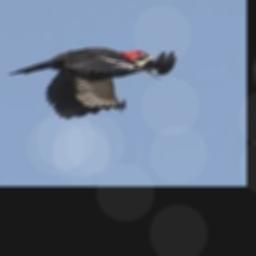Woodpecker: (7, 47, 176, 120)
